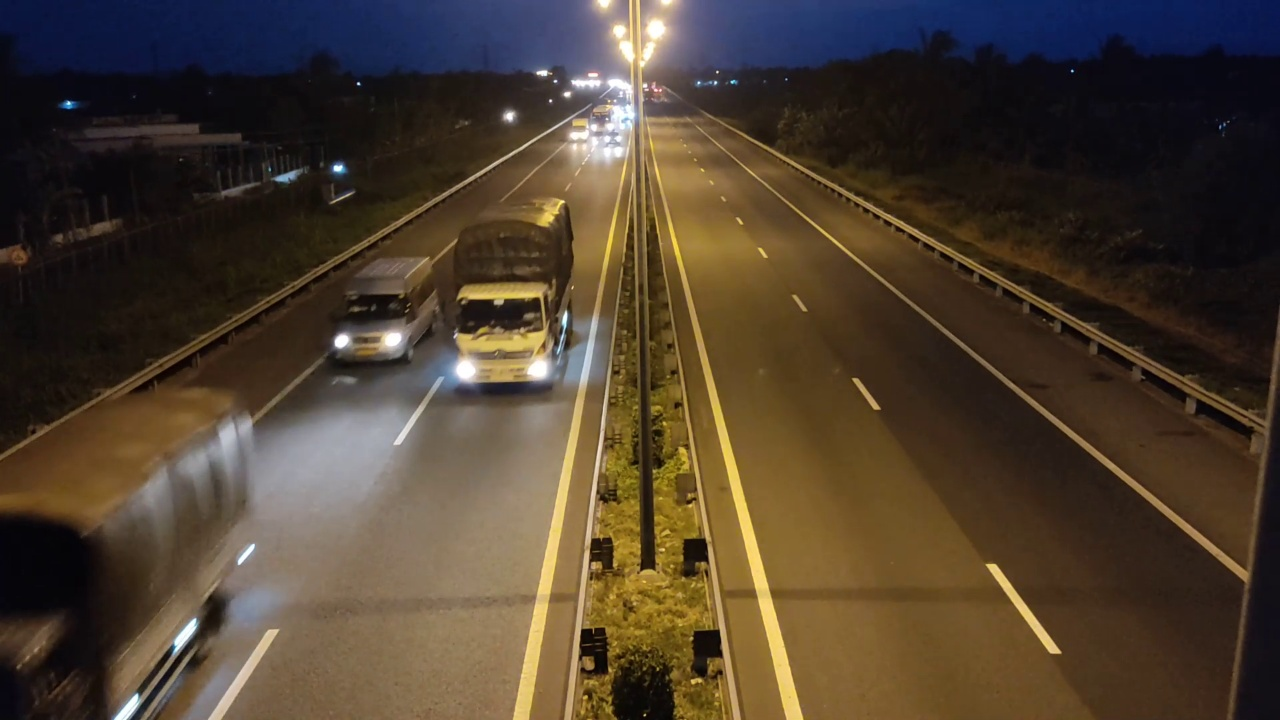car: (327, 254, 445, 366)
truck: (451, 196, 577, 395)
